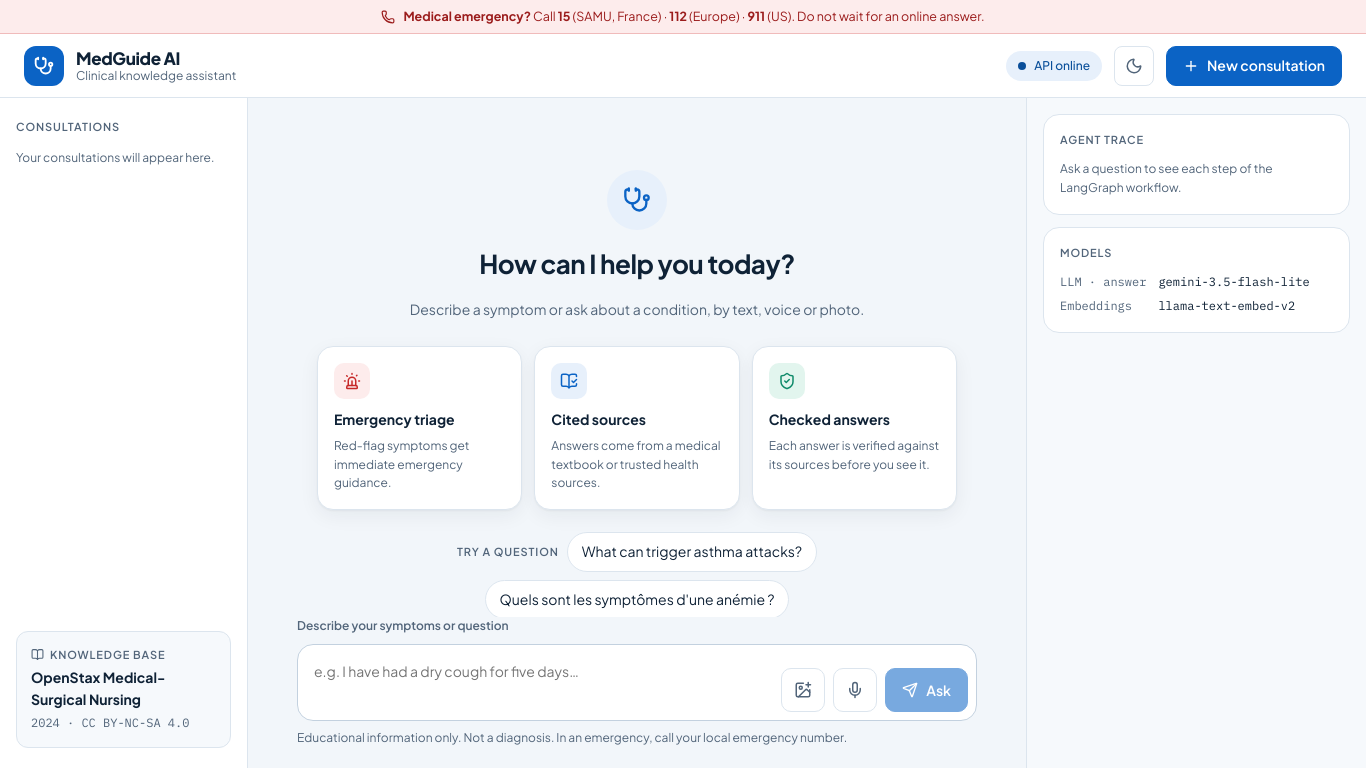
Scenario: App › shows a stream error in a dismissible banner
The image size is (1366, 768).
In the text box labelled "Describe your symptoms or question": (540, 683) 306,653 -> 773,712, type "What triggers asthma?"
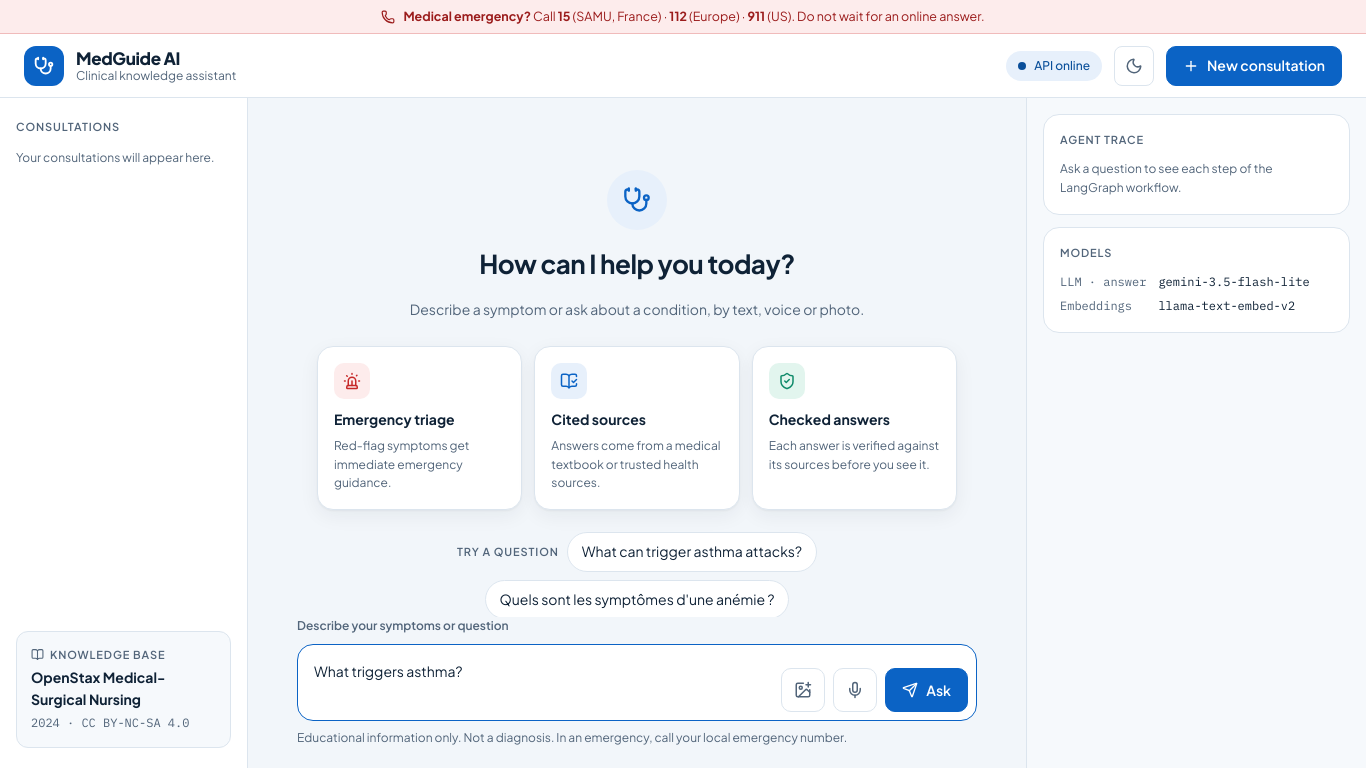
Click the button "Ask": click(927, 690) 885,668 -> 968,712
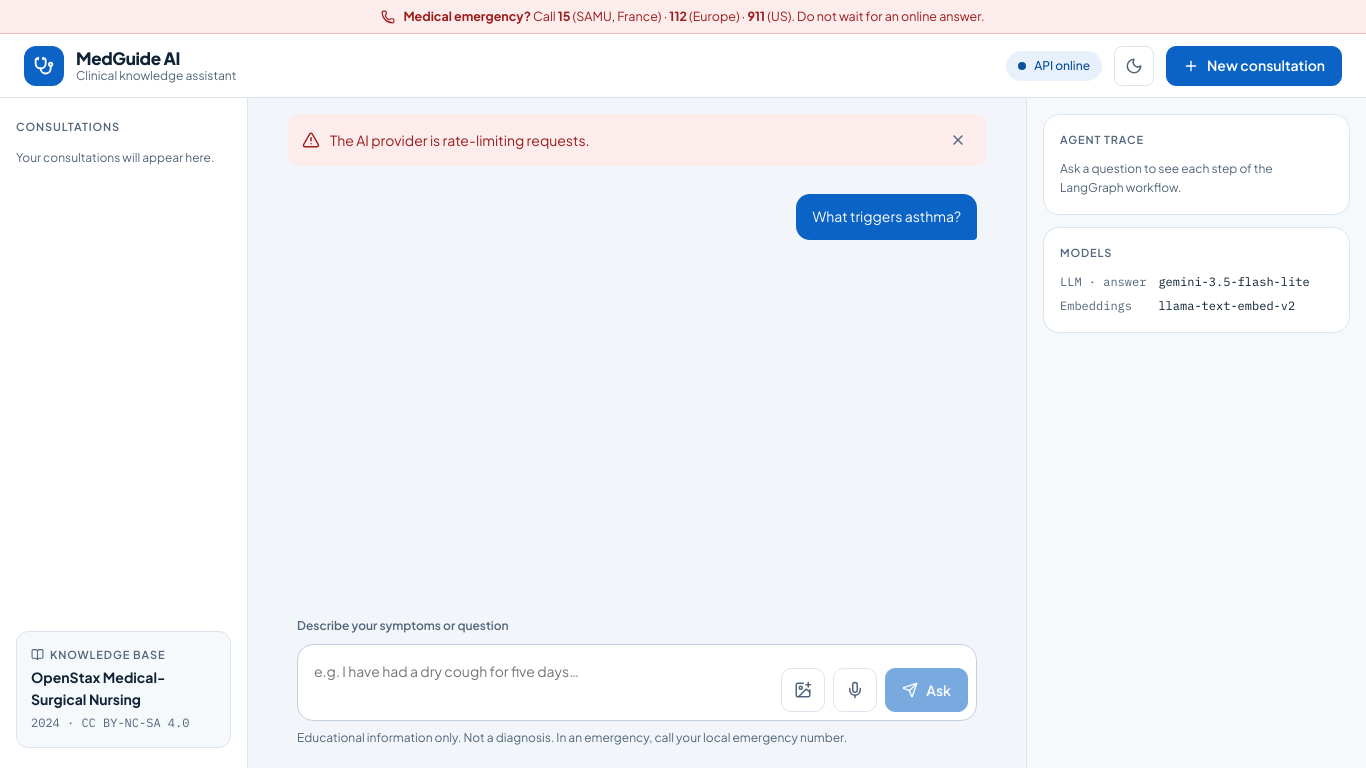
Expected: the message "The AI provider is rate-limiting requests." is shown, 288,114 -> 986,166
Click the button named "Dismiss error": click(958, 140) 942,124 -> 974,156
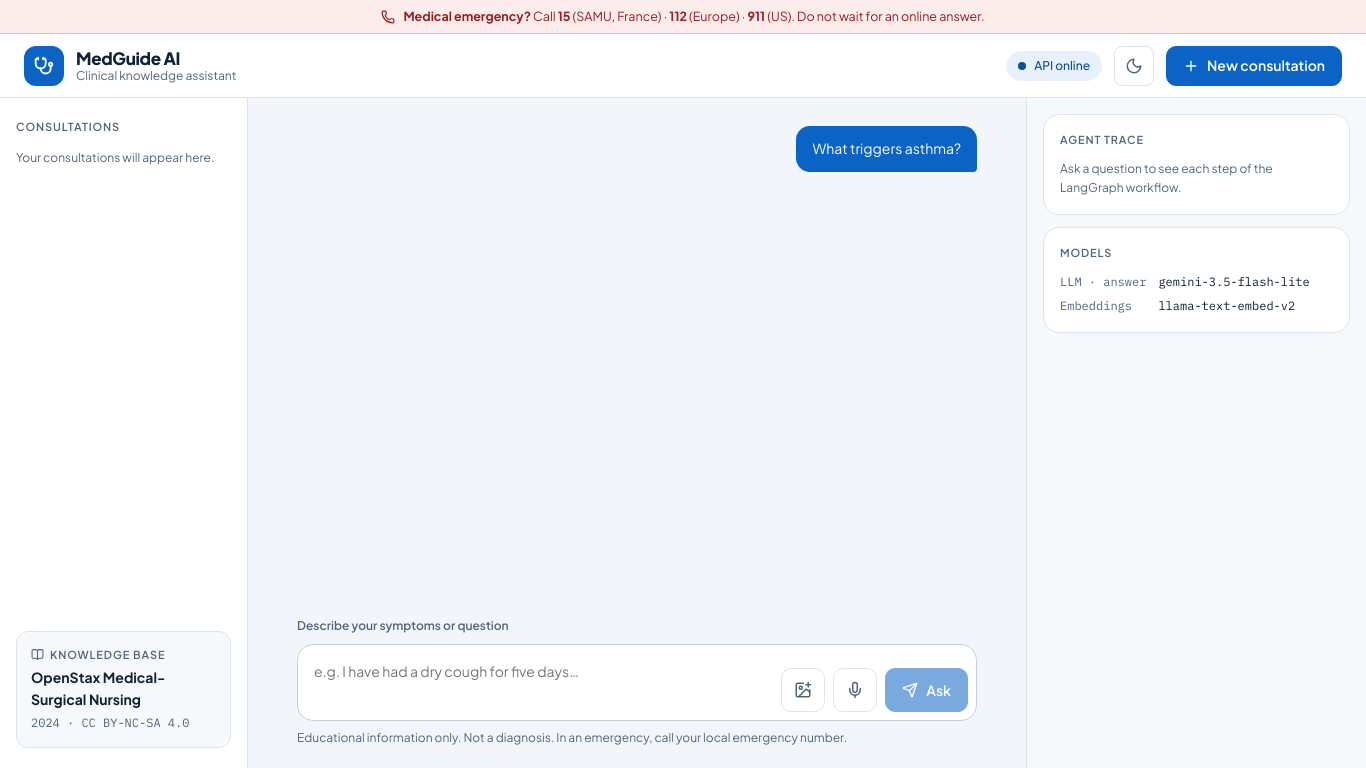
Expected: the message "The AI provider is rate-limiting requests." is gone
